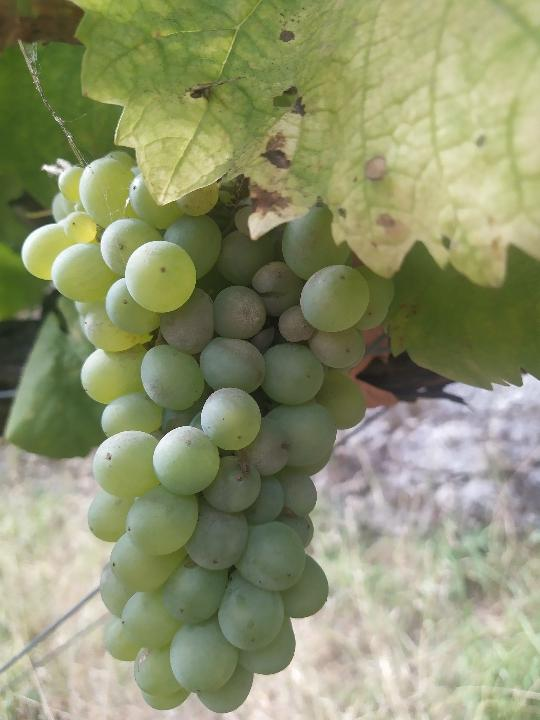grape: (19, 152, 395, 712)
